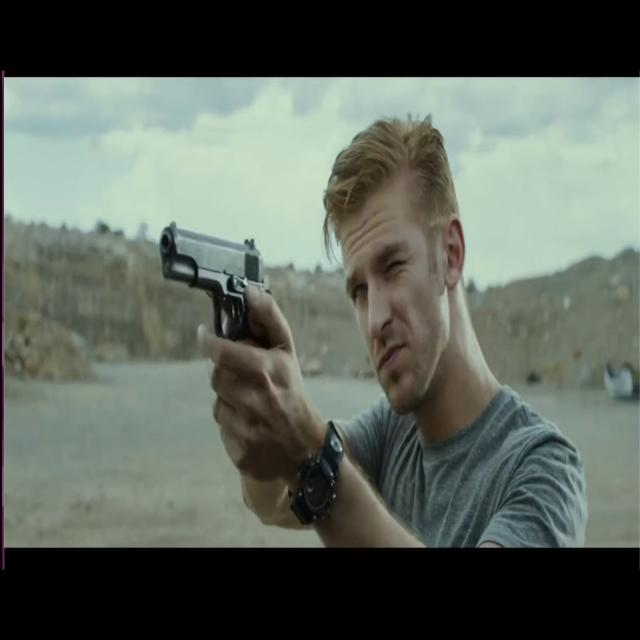weapons: (150, 191, 289, 377)
